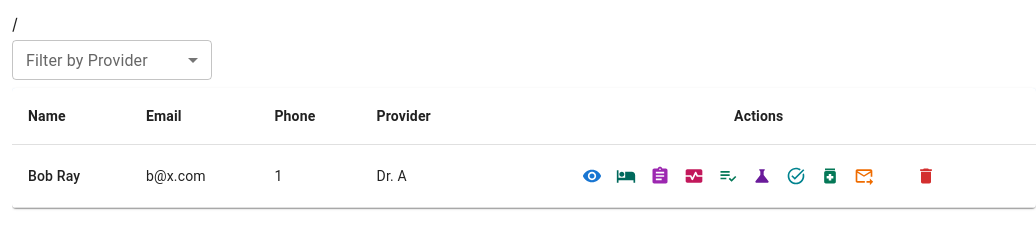
Test: the Prescription Manager icon selects the patient, then opens the Prescription Manager
This screenshot has width=1036, height=227.
What coordinates should you click on to do the following:
click the button named "Prescription Manager for Bob Ray"
I would click on:
 (830, 176)
Its box is [815,161,845,191].
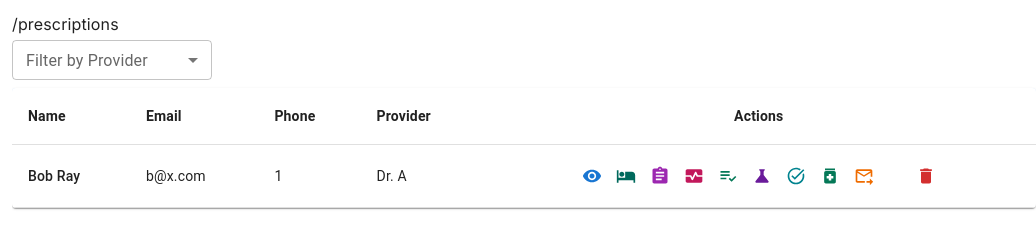
Check: the text with test id "where" reads "/prescriptions", box [12,14,119,34]
